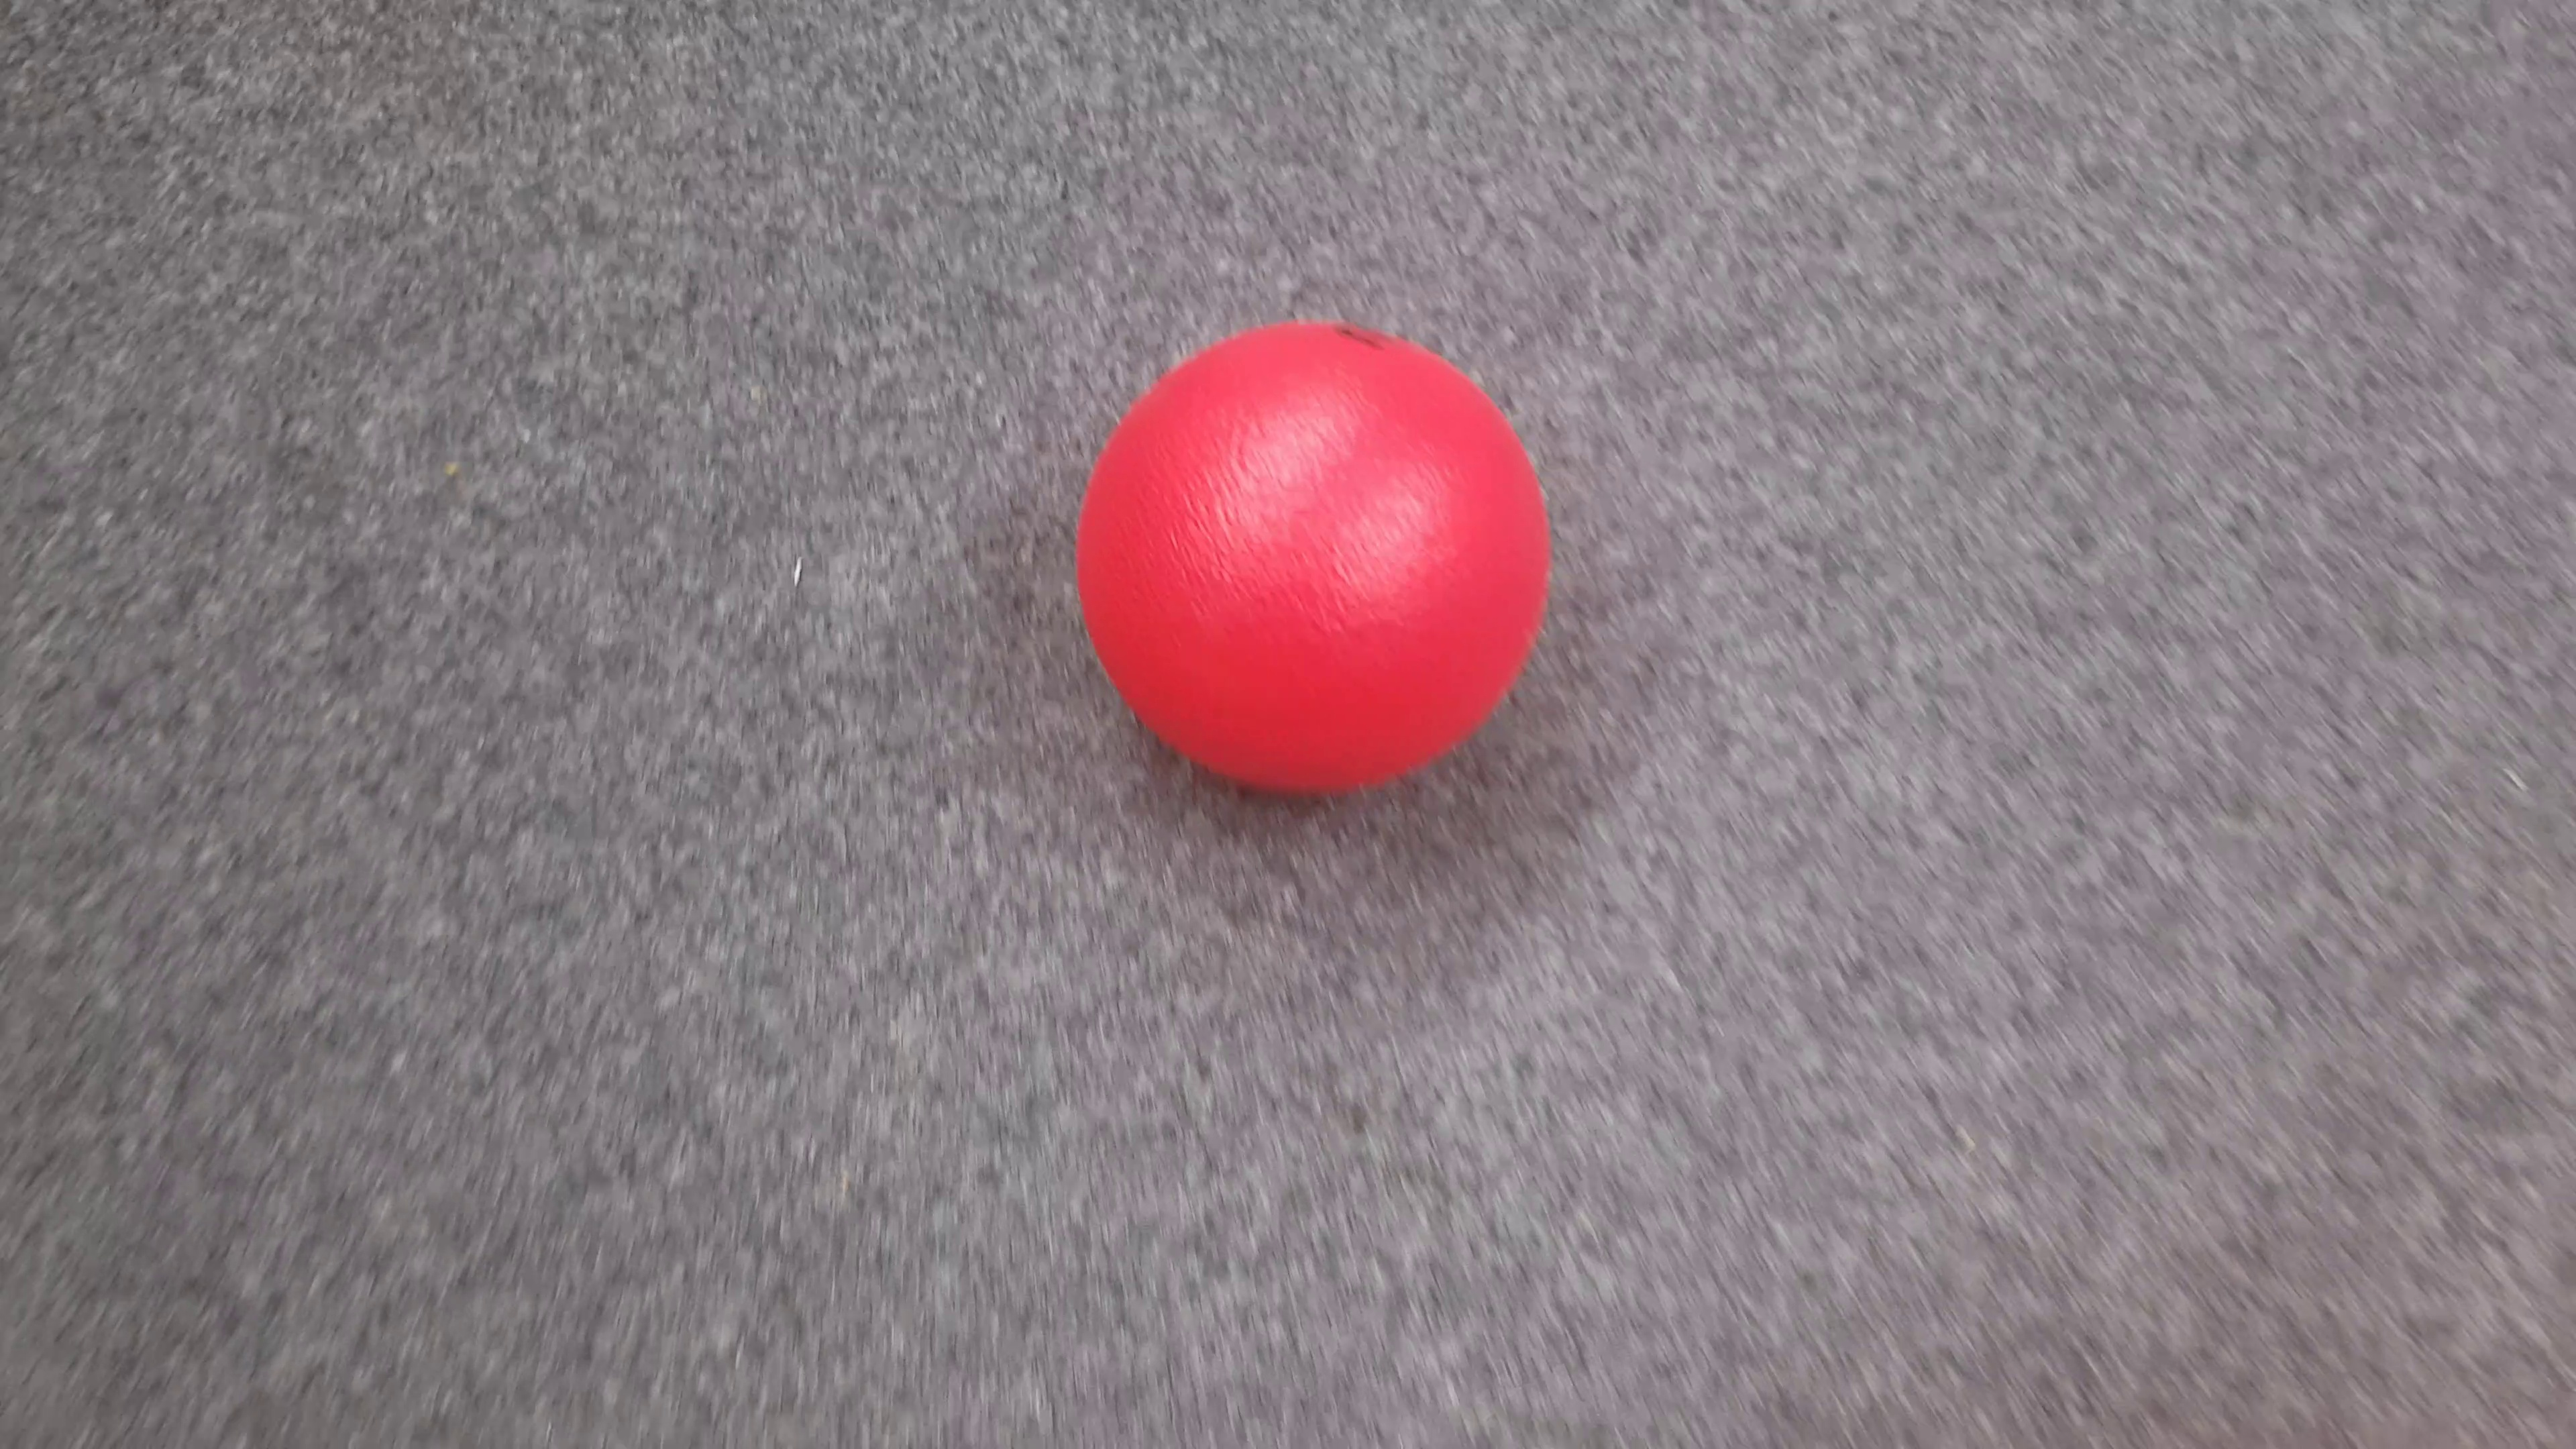kick: (1079, 320, 1550, 794)
